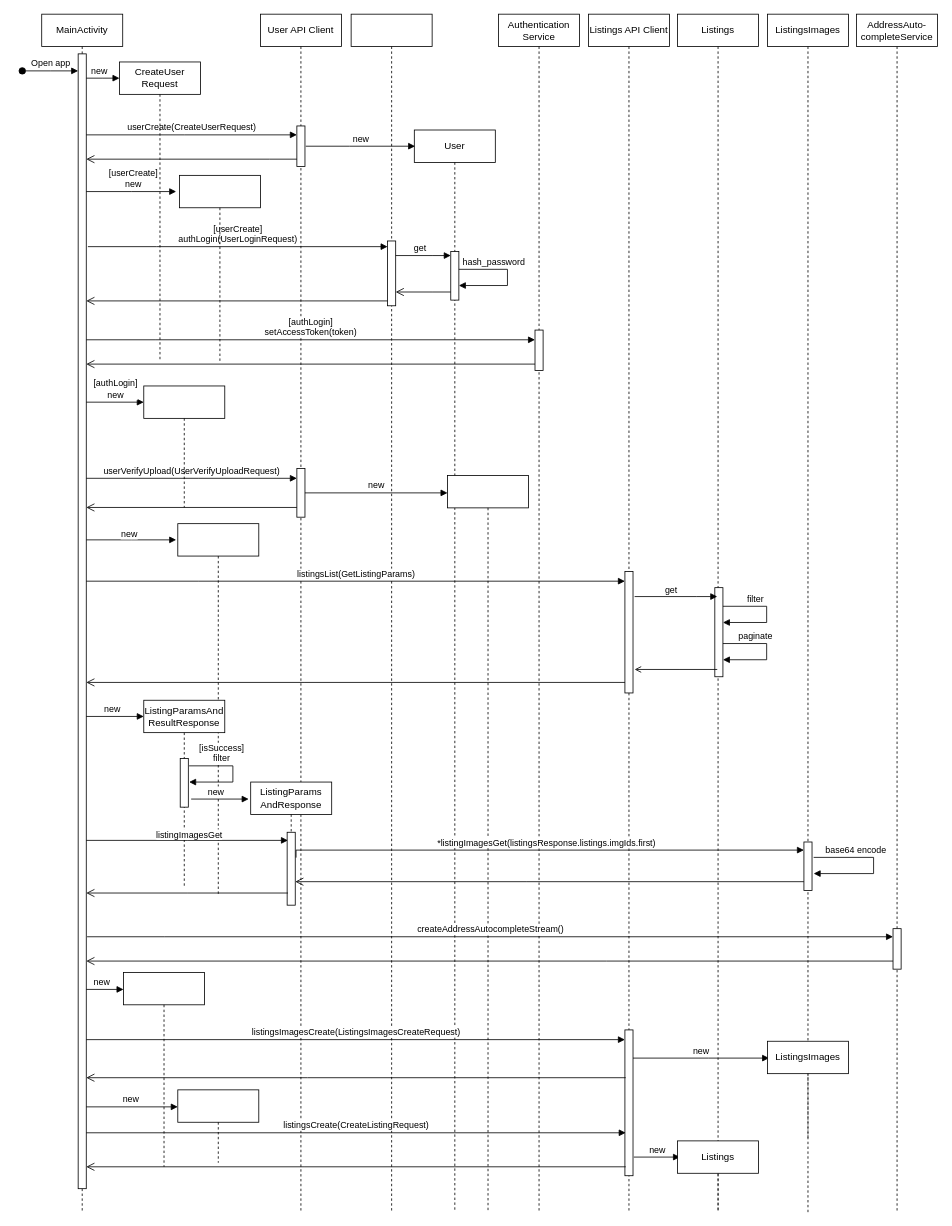
Some shapes in this 952 by 1226 pixel diagram are drawn without their labels. Here are the shapes that lost their labels. From the top down, the box of each, then its label:
(179, 175, 260, 362): UserLogin Request
(143, 385, 225, 507): UserVerify UploadRequest
(350, 13, 432, 1212): Authentication API Client
(177, 523, 259, 896): GetListingParams
(447, 475, 529, 1212): UserVerified
(123, 972, 205, 1167): ListingsImages CreateRequest
(177, 1089, 259, 1163): CreateListing Request
